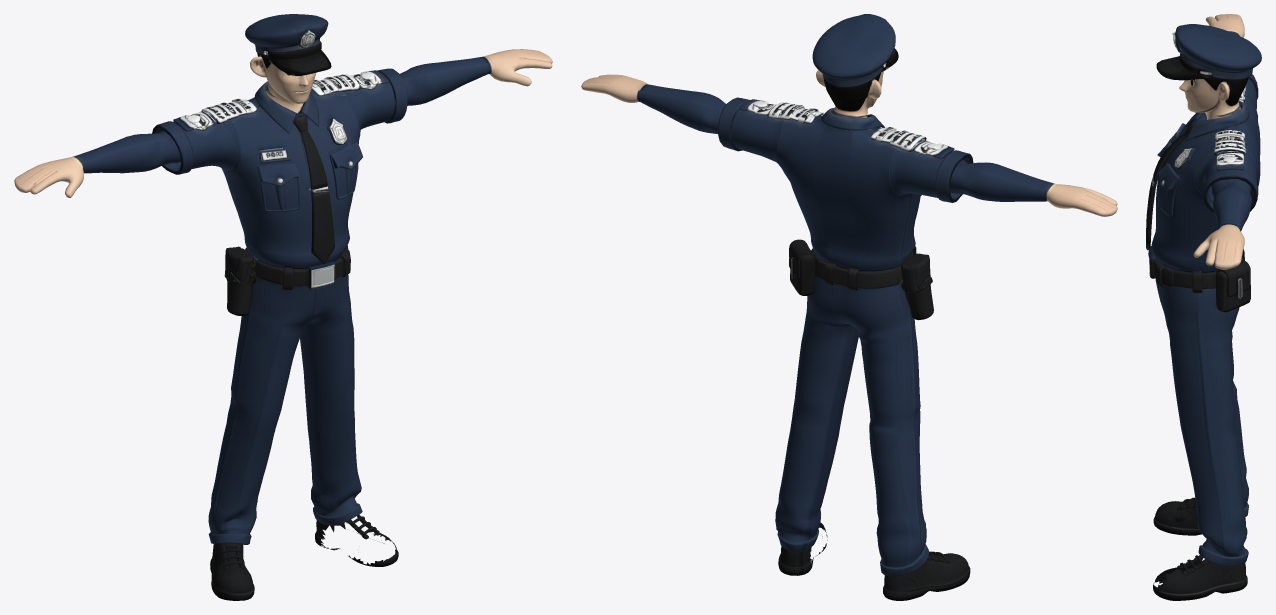
File: toonstudio_police.glb
3 renders of one model, left to right at view 1: azimuth 30°, elevation 25°; view 2: azimuth 150°, elevation 25°; view 3: azimuth 270°, elevation 25°, orthographic. The views are drawn at different scales.
Visible parts, largest first — view 1: tripo_886b9863_cc5d_41d6_917f_3bfbc4c3681c; view 2: tripo_886b9863_cc5d_41d6_917f_3bfbc4c3681c; view 3: tripo_886b9863_cc5d_41d6_917f_3bfbc4c3681c.
Part boxes in pixels (x1,y1,x2,y2): tripo_886b9863_cc5d_41d6_917f_3bfbc4c3681c: (14,14,552,600); tripo_886b9863_cc5d_41d6_917f_3bfbc4c3681c: (581,14,1117,600); tripo_886b9863_cc5d_41d6_917f_3bfbc4c3681c: (1146,14,1261,600).
Size of the model in its own units: 1.7 by 1.68 by 0.3314.
Materials: 1 (1 with a texture image).
